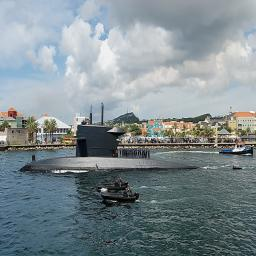submarine: (20, 105, 207, 172)
